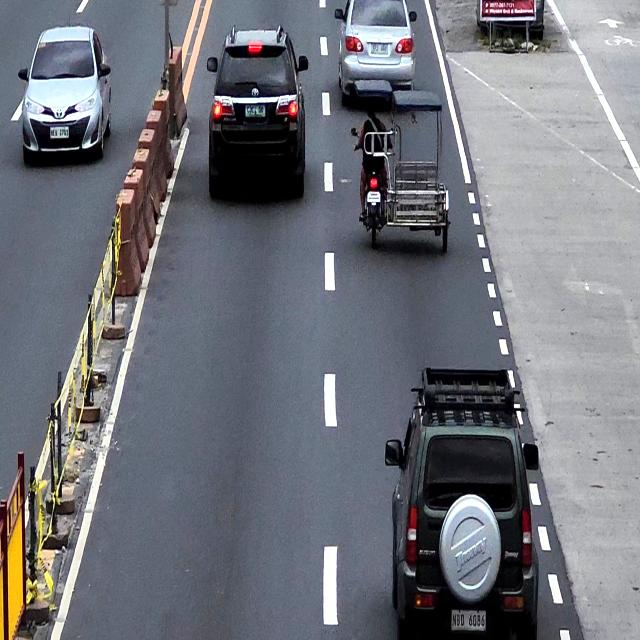Car: (384, 365, 540, 640), (206, 27, 310, 198), (335, 0, 416, 107)
License-Plate: (451, 610, 486, 632), (245, 104, 265, 118), (370, 42, 388, 56), (368, 190, 380, 202)
Tricycle: (351, 78, 452, 255)
